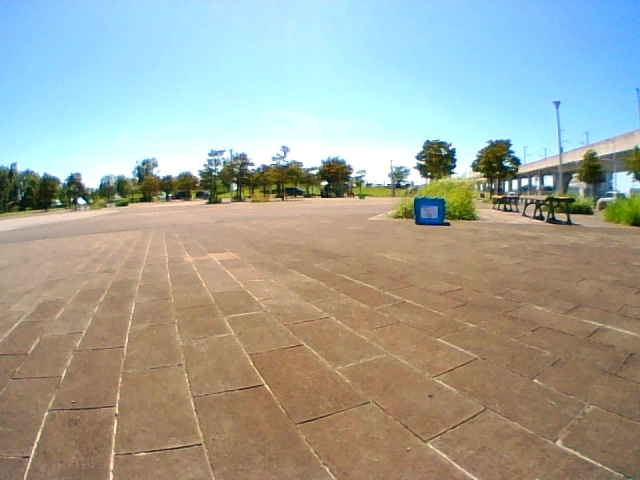blue_box: (415, 199, 445, 223)
tag: (420, 207, 436, 219)
